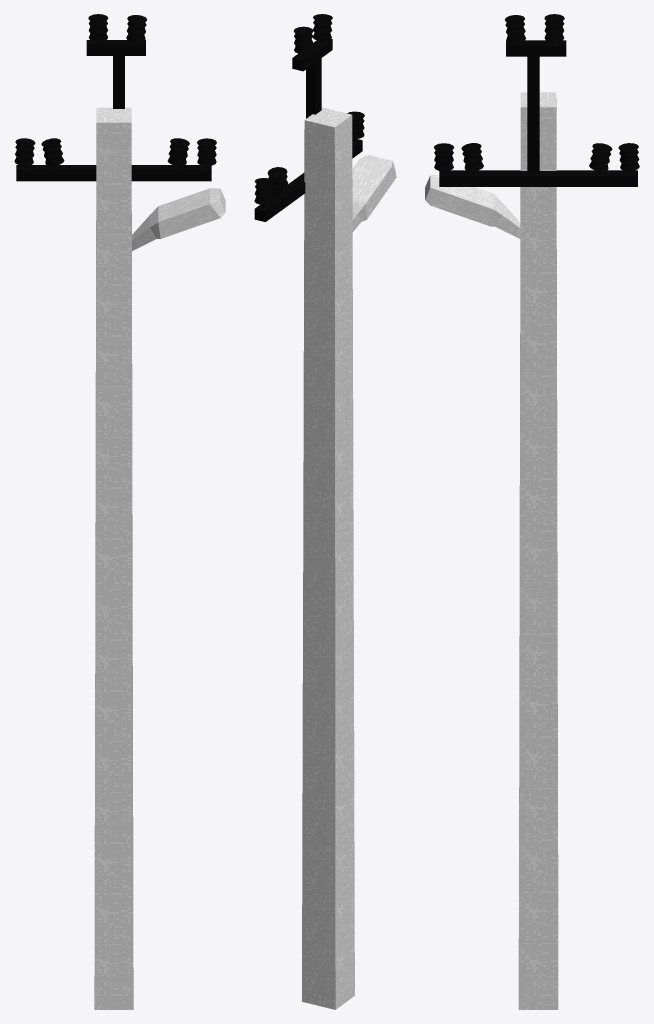
Rendered from lep.glb.
The picture shows the model from 3 angles, left to right: view 1: azimuth 90°, elevation 25°; view 2: azimuth 150°, elevation 25°; view 3: azimuth 270°, elevation 25°; orthographic projection. The views are drawn at different scales.
Visible parts, largest first — view 1: Cube, Cube.010, Cube.001, Cube.007, Cube.002, Cylinder.003, Cylinder.005, Cylinder.004, Cylinder, Cylinder.002, Cylinder.001; view 2: Cube, Cube.010, Cube.001, Cube.002, Cube.007, Cylinder.005, Cylinder.003, Cylinder.004, Cylinder.002; view 3: Cube, Cube.001, Cube.010, Cube.002, Cube.007, Cylinder.001, Cylinder, Cylinder.005, Cylinder.002, Cylinder.003, Cylinder.004.
Part boxes in pixels (bbox=[...]): Cube: bbox=[94, 107, 133, 1009]; Cube.010: bbox=[132, 188, 225, 250]; Cube.001: bbox=[16, 165, 211, 181]; Cube.007: bbox=[86, 40, 145, 55]; Cube.002: bbox=[113, 56, 124, 108]; Cylinder.003: bbox=[14, 138, 35, 165]; Cylinder.005: bbox=[88, 14, 108, 41]; Cylinder.004: bbox=[126, 15, 147, 42]; Cylinder: bbox=[197, 138, 216, 165]; Cylinder.002: bbox=[41, 138, 64, 166]; Cylinder.001: bbox=[167, 138, 189, 165]; Cube: bbox=[302, 107, 354, 1009]; Cube.010: bbox=[352, 155, 396, 231]; Cube.001: bbox=[254, 139, 362, 221]; Cube.002: bbox=[306, 58, 321, 118]; Cube.007: bbox=[292, 39, 332, 71]; Cylinder.005: bbox=[293, 26, 313, 54]; Cylinder.003: bbox=[254, 178, 274, 204]; Cylinder.004: bbox=[312, 14, 332, 40]; Cylinder.002: bbox=[267, 167, 288, 195]; Cube: bbox=[518, 92, 558, 1009]; Cube.001: bbox=[439, 170, 637, 186]; Cube.010: bbox=[425, 175, 520, 238]; Cube.002: bbox=[527, 56, 539, 174]; Cube.007: bbox=[506, 40, 566, 56]; Cylinder.001: bbox=[461, 143, 483, 171]; Cylinder: bbox=[434, 143, 454, 171]; Cylinder.005: bbox=[544, 14, 564, 42]; Cylinder.002: bbox=[589, 143, 612, 171]; Cylinder.003: bbox=[618, 143, 639, 171]; Cylinder.004: bbox=[505, 15, 525, 43].
Bounding box in the file's own units: 0.5383 × 11.01 × 2.16.
2 materials, 1 textured.
